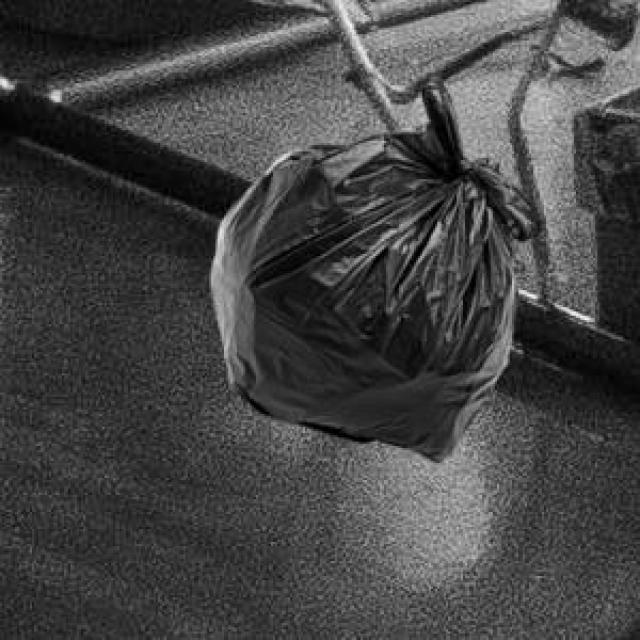miscellaneous trash: (207, 70, 542, 459)
